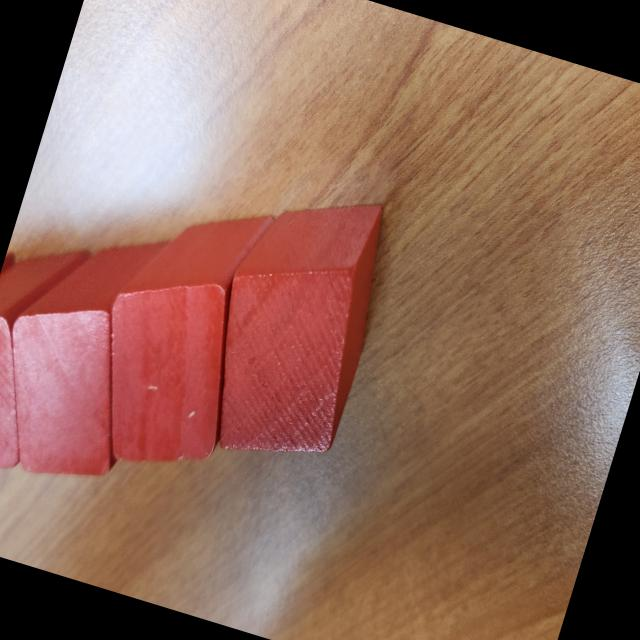red: (182, 168, 408, 486), (69, 179, 284, 486), (0, 202, 179, 495), (0, 229, 93, 491)
